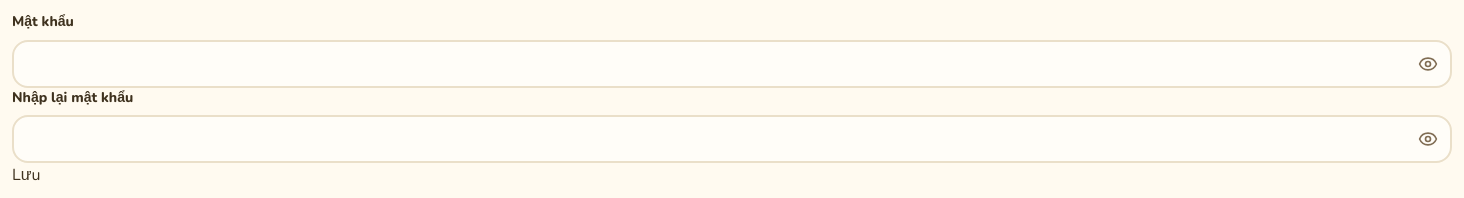
Test: PasswordField › reveals and hides without losing the entered value
Type "StrongPass123!" into the password field labelled "Mật khẩu" at (732, 64), box top-left (12, 40), bottom-right (1452, 88)
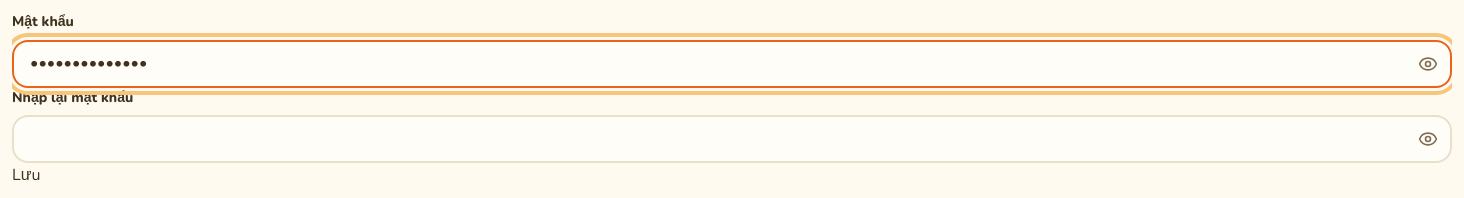
Click the button named "Hiện hoặc ẩn mật khẩu" at (1428, 64), box top-left (1406, 42), bottom-right (1450, 86)
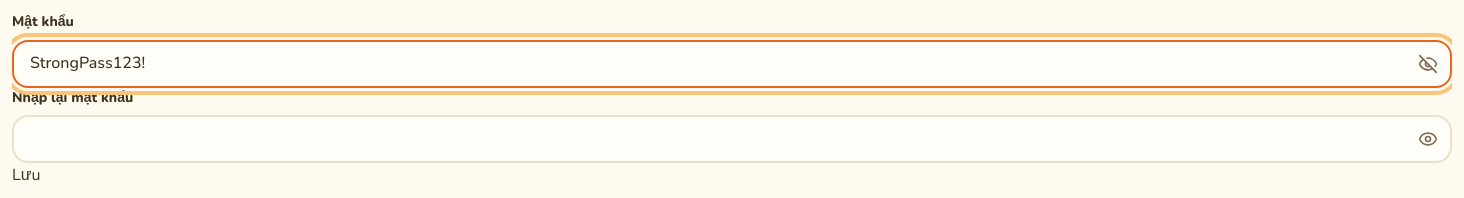
Expected: the field labelled "Mật khẩu" shows its text, top-left (12, 40), bottom-right (1452, 88)
Click the button named "Hiện hoặc ẩn mật khẩu" at (1428, 64), box top-left (1406, 42), bottom-right (1450, 86)
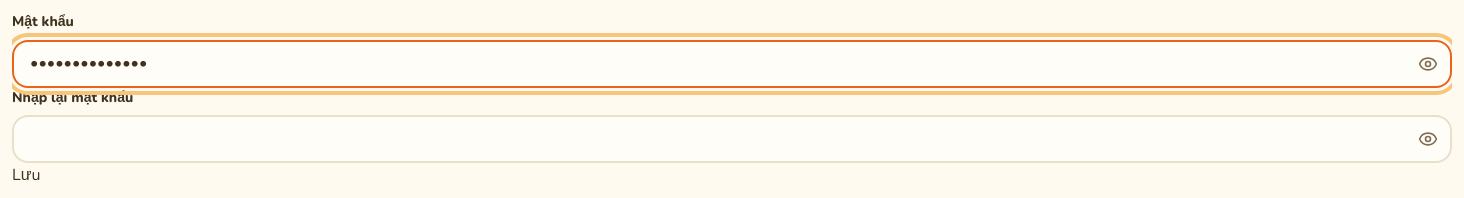
Expected: the password field labelled "Mật khẩu" hides its text, top-left (12, 40), bottom-right (1452, 88)
